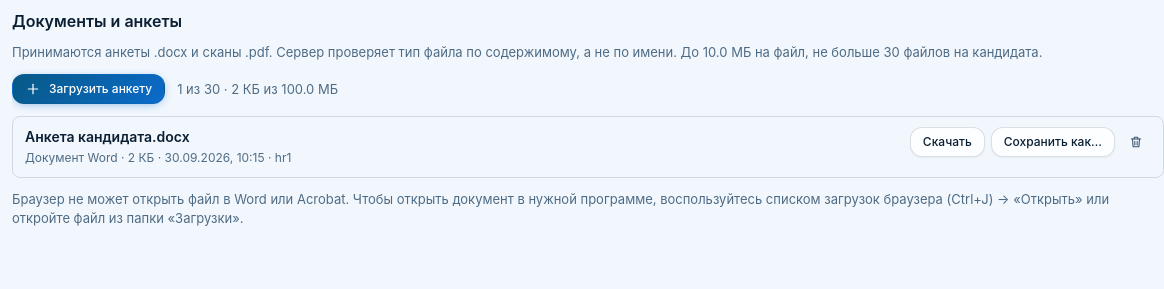
Test case: Сохранение через системный диалог › отмена диалога не считается успехом
Click the button "Сохранить как…": click(1053, 142) top-left (991, 127), bottom-right (1115, 157)
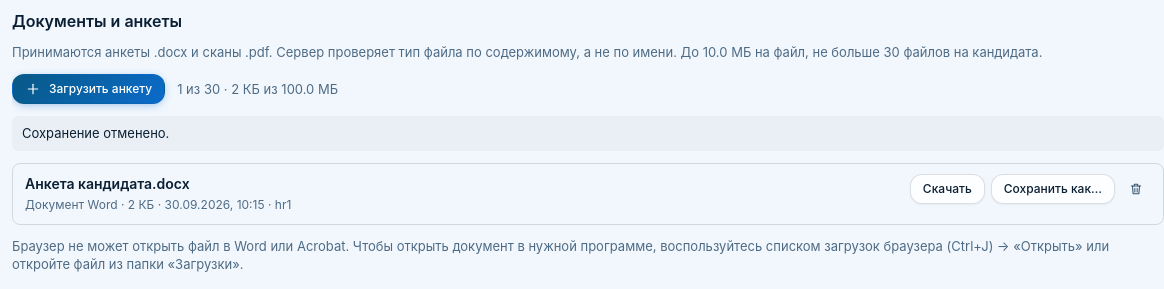
Check: the text "Сохранение отменено." is shown, box top-left (12, 116), bottom-right (1163, 151)
